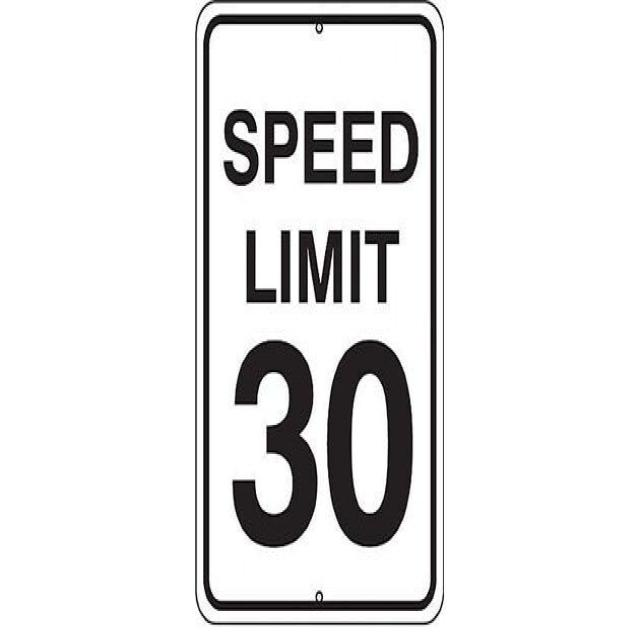speedLimit30: (192, 2, 446, 622)
